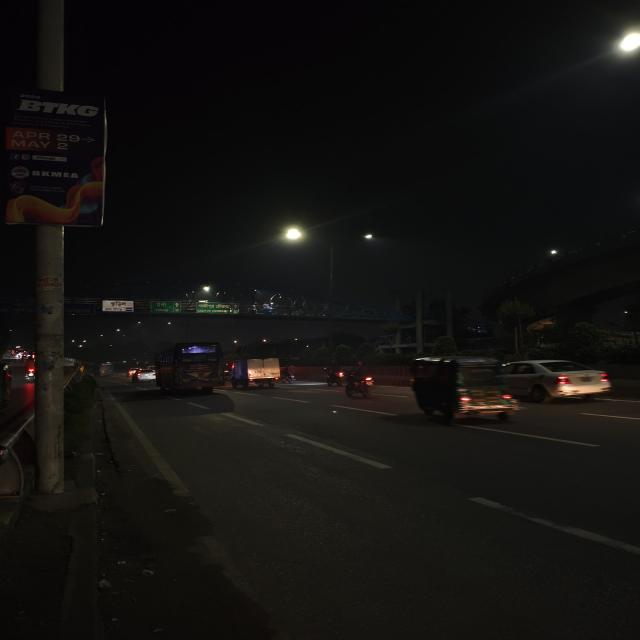bus: (154, 341, 224, 396)
car: (505, 356, 613, 406), (126, 365, 158, 385)
cng: (406, 354, 519, 424)
motorcycle: (330, 360, 382, 400)
truck: (225, 356, 289, 390)
